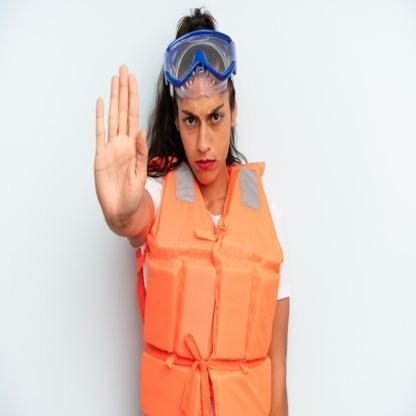stop: (94, 59, 150, 229)
